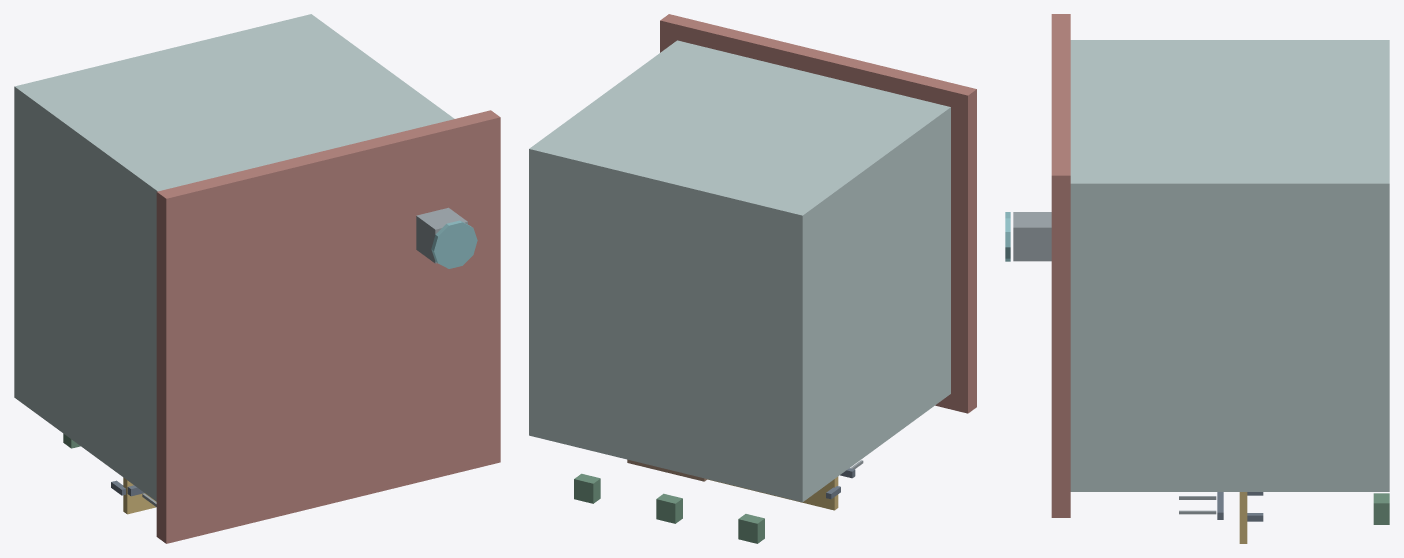
The model's file is ruko_tall.glb.
The picture shows the model from 3 angles, left to right: view 1: azimuth 30°, elevation 25°; view 2: azimuth 150°, elevation 25°; view 3: azimuth 270°, elevation 25°; orthographic projection. The views are drawn at different scales.
Parts seen in each view (by area): view 1: roof, wall2, glass, metal2; view 2: wall2, roof, green, sun; view 3: wall2, roof, metal2, green, sun.
Part boxes in pixels (x1,y1,x2,y2): roof: [156, 110, 500, 543]; wall2: [14, 14, 454, 501]; glass: [431, 220, 477, 268]; metal2: [142, 207, 467, 506]; wall2: [529, 40, 950, 502]; roof: [660, 14, 976, 413]; green: [574, 473, 764, 543]; sun: [707, 476, 838, 510]; wall2: [1070, 40, 1389, 491]; roof: [1051, 14, 1070, 517]; metal2: [1013, 212, 1216, 514]; green: [1373, 493, 1389, 524]; sun: [1239, 492, 1247, 543].
Bounding box in the file's own units: 7.19 × 8.2 × 7.23.
